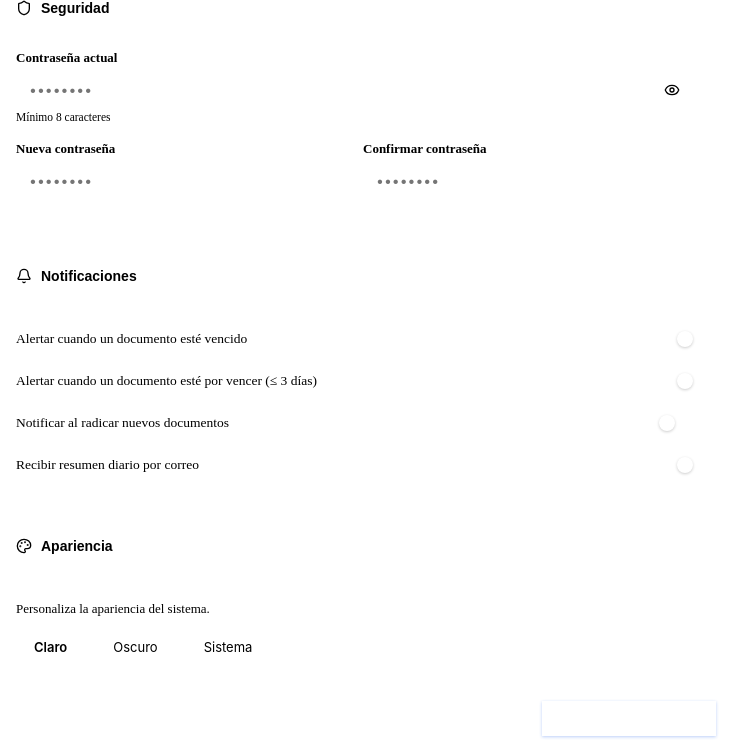
Test: SettingsPage › save functionality › should show success message after saving
(page scrolled)
Click the button "Guardar Cambios". click: click(629, 718)
box: top-left (542, 701), bottom-right (716, 736)
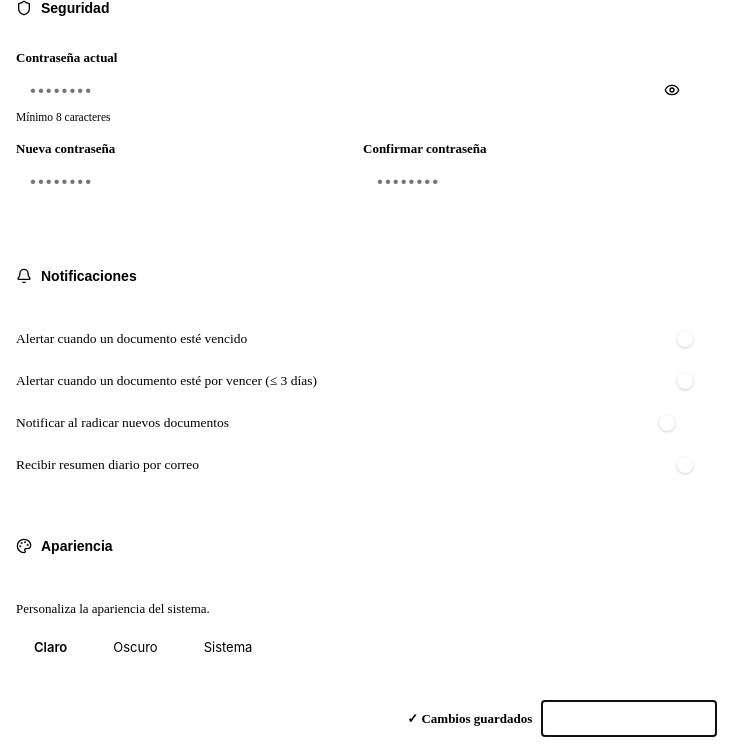
Expected: the text "✓ Cambios guardados" is shown, top-left (407, 710), bottom-right (532, 726)
